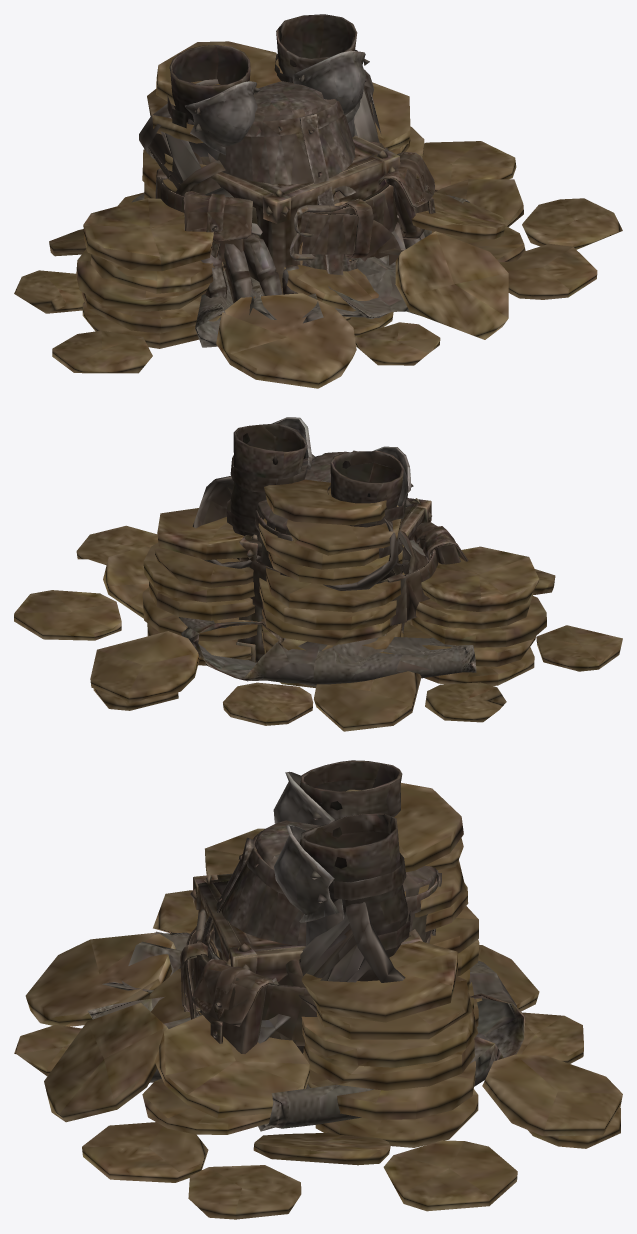
The model's file is drops.glb.
The picture shows the model from 3 angles, top to bottom: view 1: azimuth 30°, elevation 25°; view 2: azimuth 150°, elevation 25°; view 3: azimuth 270°, elevation 25°; orthographic projection. The views are drawn at different scales.
Parts seen in each view (by area): view 1: d_coin_stack_small, g_boots, g_belt, g_helm, g_gloves, g_cube, g_armor; view 2: d_coin_stack_small, g_boots, g_armor, g_belt, g_gloves, g_cube, g_helm; view 3: d_coin_stack_small, g_boots, g_armor, g_belt, g_helm, g_gloves, g_cube.
Boxes of the visible parts, x1,y1,x2,y2 form: d_coin_stack_small: [14, 41, 622, 388]; g_boots: [167, 14, 369, 160]; g_belt: [155, 147, 435, 268]; g_helm: [217, 80, 358, 275]; g_gloves: [139, 69, 424, 315]; g_cube: [211, 135, 400, 294]; g_armor: [131, 193, 469, 347]; d_coin_stack_small: [14, 479, 622, 731]; g_boots: [226, 417, 413, 558]; g_armor: [179, 617, 476, 686]; g_belt: [233, 522, 468, 625]; g_gloves: [192, 476, 431, 590]; g_cube: [236, 498, 431, 662]; g_helm: [255, 450, 407, 633]; d_coin_stack_small: [14, 783, 622, 1219]; g_boots: [273, 760, 410, 957]; g_armor: [88, 931, 525, 1131]; g_belt: [180, 909, 431, 1053]; g_helm: [184, 820, 441, 1015]; g_gloves: [179, 902, 405, 1053]; g_cube: [190, 873, 422, 981].
Size of the model in its own units: 0.9591 by 0.38 by 0.7714.
12 materials, 12 textured.
